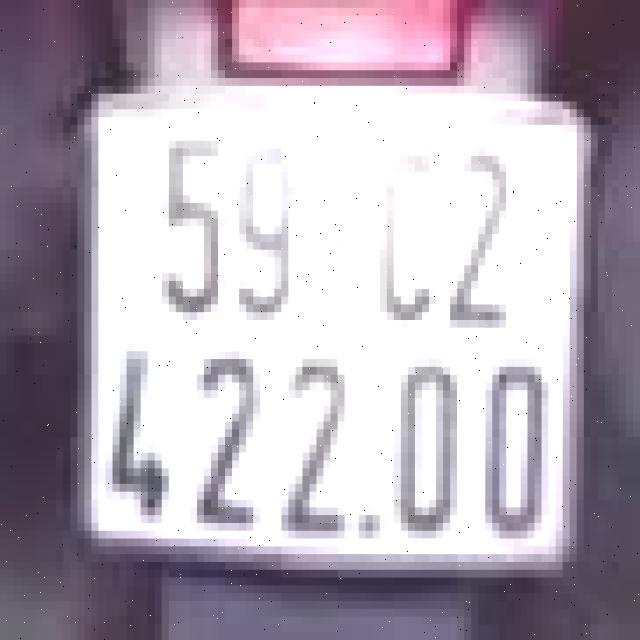0: (471, 348, 556, 550), (387, 344, 464, 546)
2: (183, 336, 267, 546), (274, 355, 359, 550), (439, 129, 517, 324)
4: (112, 324, 176, 519)
5: (151, 121, 229, 316)
9: (232, 125, 303, 335)
C: (359, 136, 450, 324)
